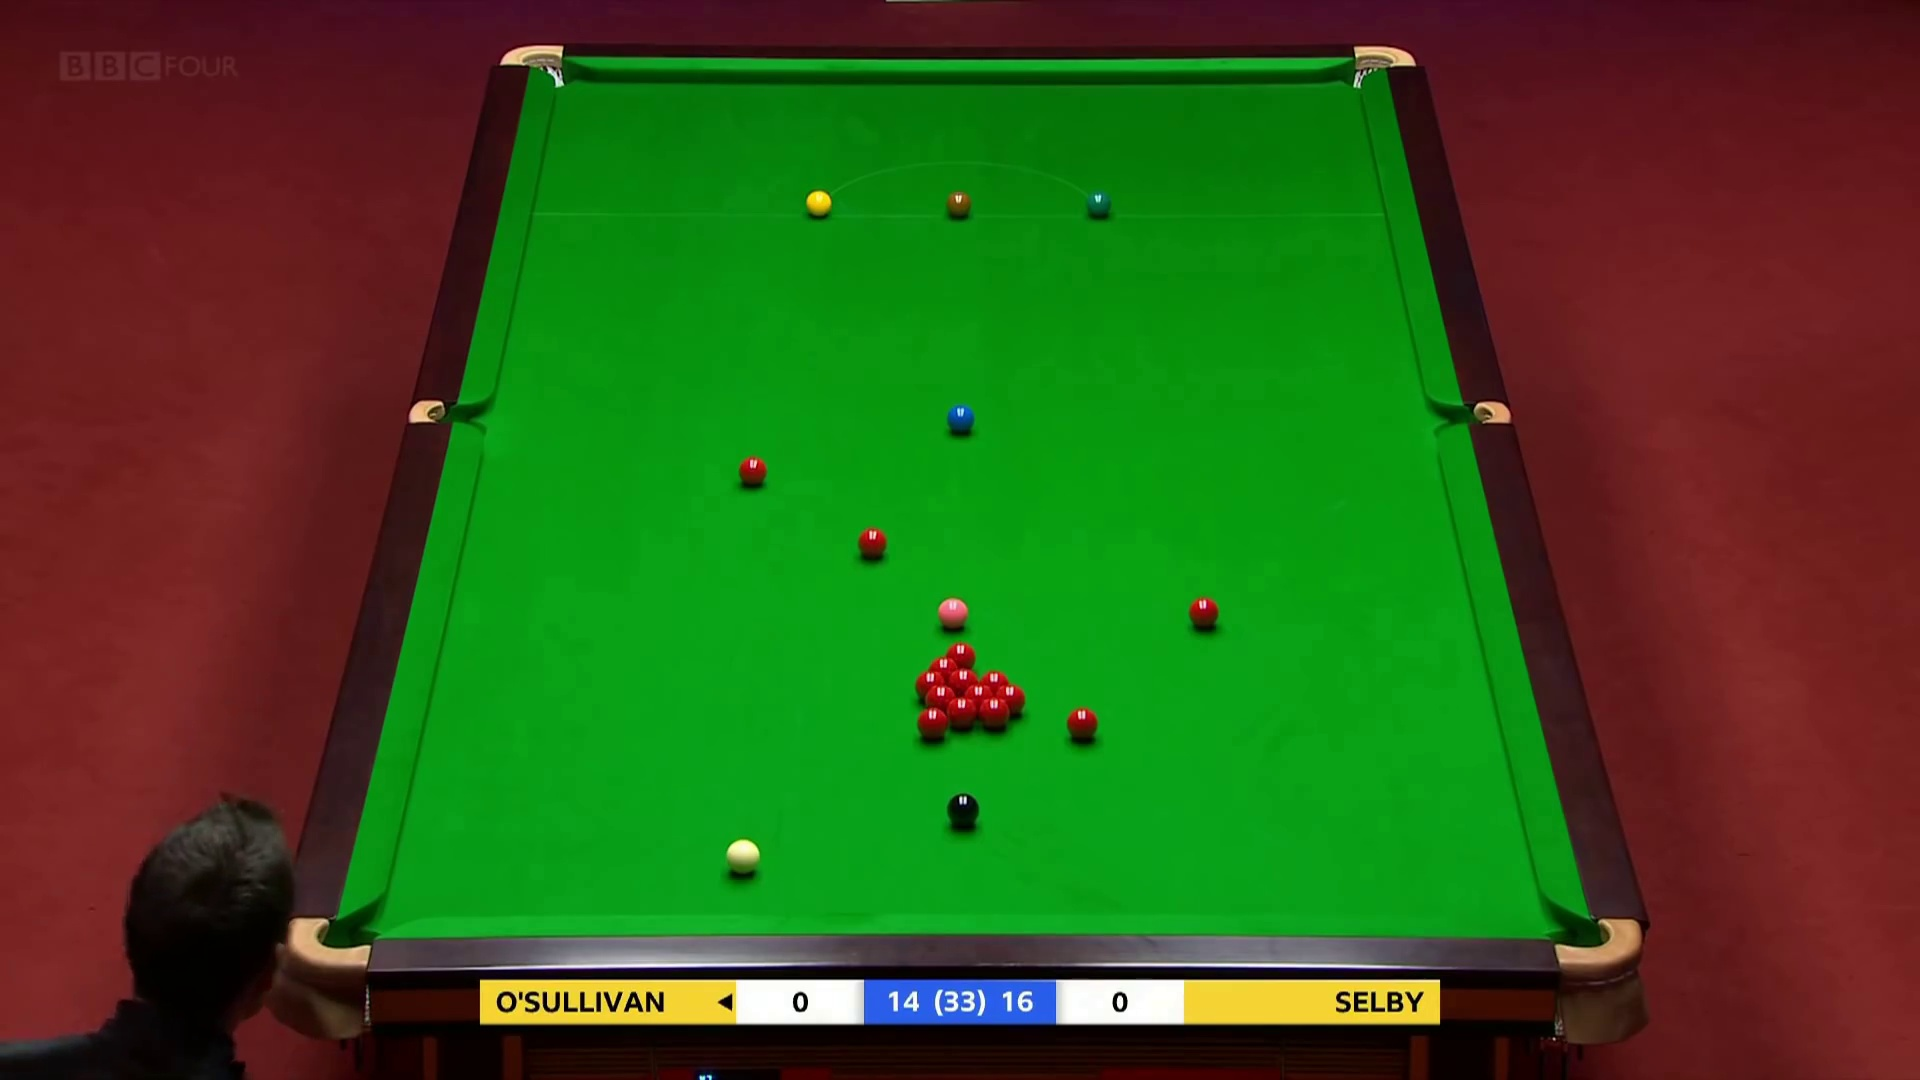black: (945, 790, 985, 833)
blue: (945, 401, 978, 436)
brown: (945, 186, 976, 223)
green: (1084, 189, 1113, 223)
pink: (936, 596, 972, 636)
red: (1064, 702, 1102, 748), (915, 703, 953, 746), (975, 696, 1013, 738), (1185, 595, 1224, 636), (913, 669, 953, 707), (943, 695, 980, 735), (945, 669, 984, 705), (736, 454, 771, 492), (978, 669, 1014, 707), (857, 524, 891, 563), (920, 680, 957, 716), (947, 640, 978, 680), (928, 654, 963, 691), (993, 680, 1026, 717), (964, 682, 992, 717)
white: (721, 837, 764, 881)
yellow: (800, 185, 836, 224)
